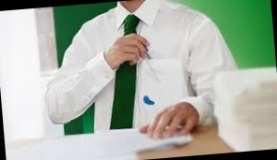ink: (142, 94, 154, 105)
